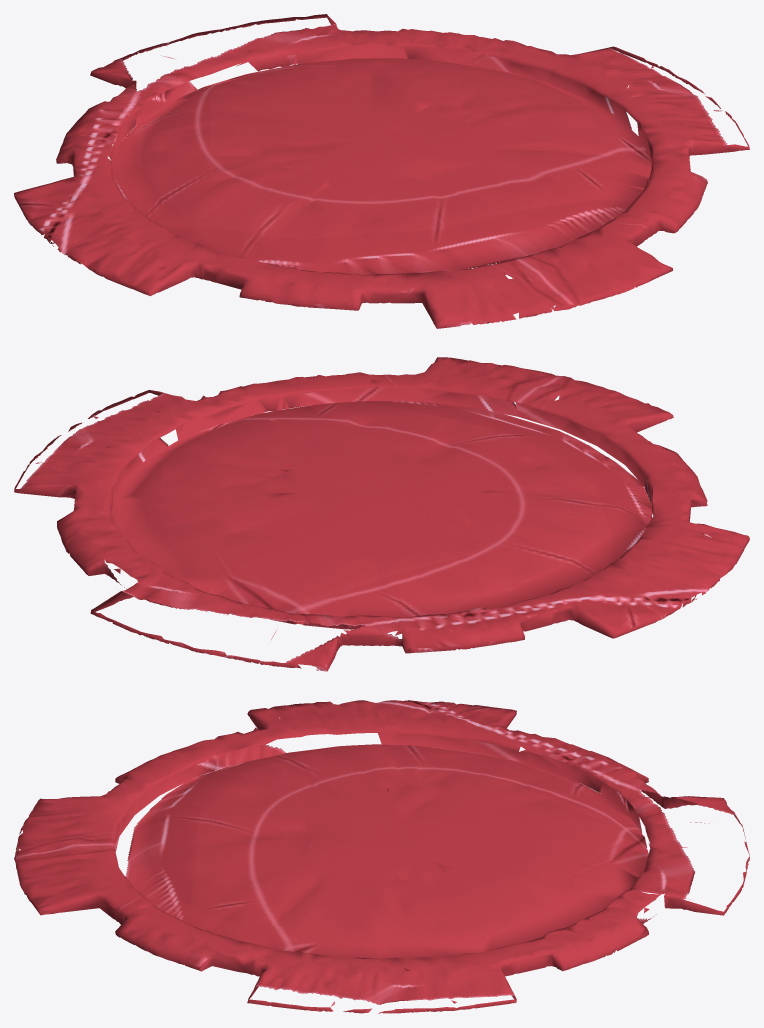
The model's file is button_LOD0.fbx.
The picture shows the model from 3 angles, top to bottom: view 1: azimuth 30°, elevation 25°; view 2: azimuth 150°, elevation 25°; view 3: azimuth 270°, elevation 25°; orthographic projection.
Visible parts, largest first — view 1: button_LOD0; view 2: button_LOD0; view 3: button_LOD0.
Boxes of the visible parts, left/top/right/bottom form: button_LOD0: left=14, top=14, right=749, bottom=328; button_LOD0: left=14, top=357, right=749, bottom=671; button_LOD0: left=14, top=700, right=749, bottom=1013.
Size of what is drawn, in the model's own units: 179 by 7.59 by 179.
